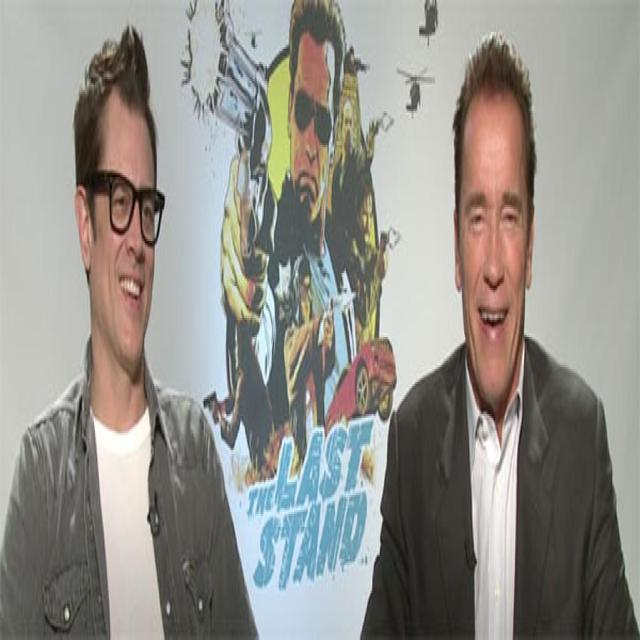Face: (452, 90, 531, 411), (82, 90, 162, 379)
